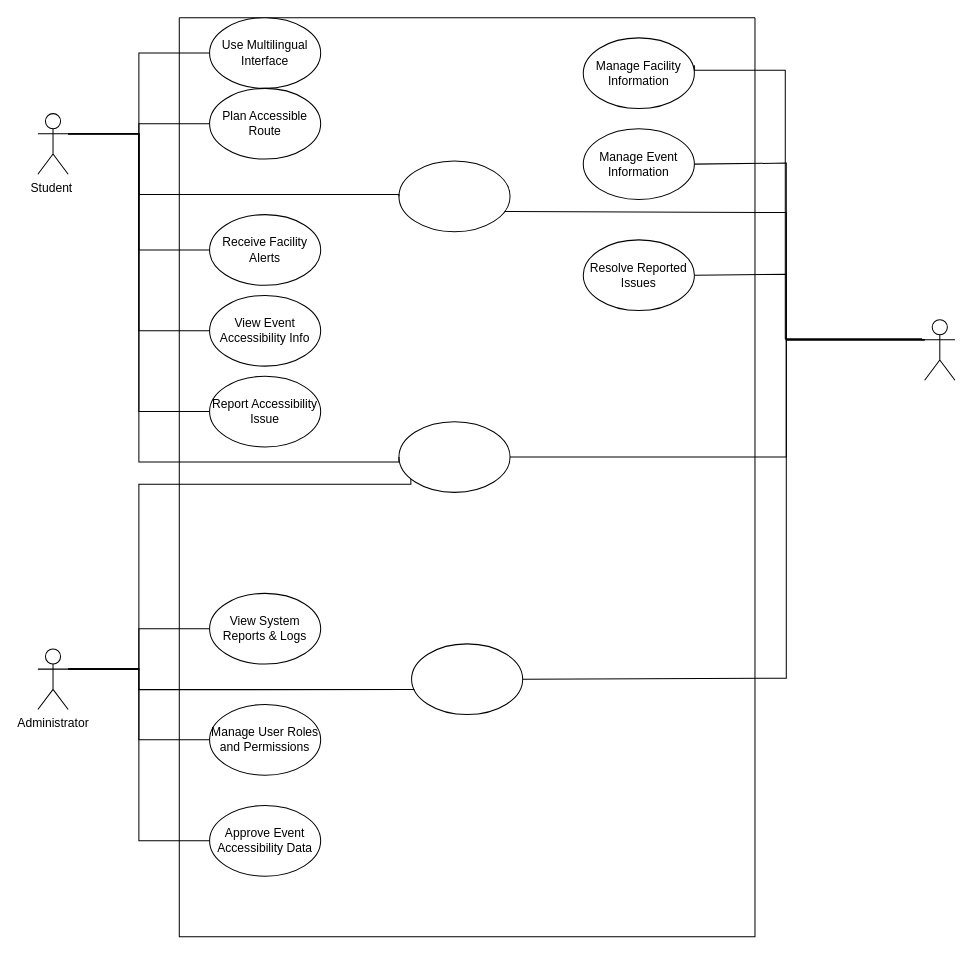
Image size: 973x954. Some labels were removed from this diagram. The shapes that lost their labels are listed below. From the top down, each one's box as (x1, y1, x2, y2) in pixels, then its label:
(398, 160, 510, 232): Track Report Status
(924, 319, 955, 380): Staff
(398, 421, 510, 492): Login to System
(411, 643, 523, 715): Trigger Data Synchronization
